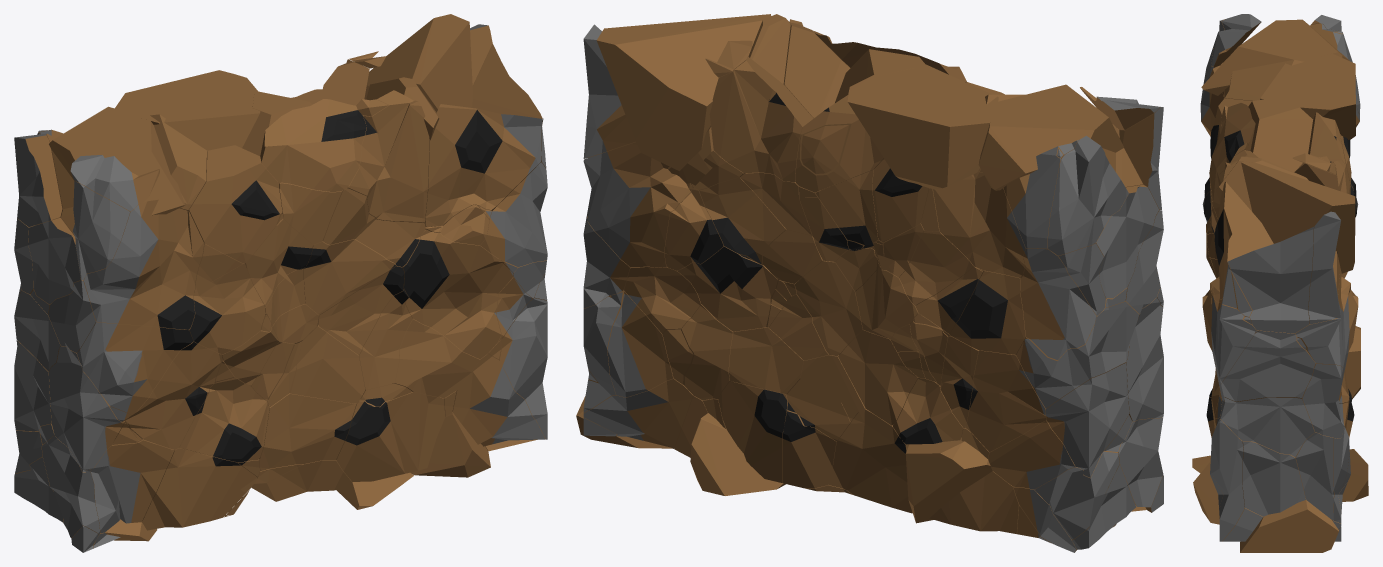
File: FracturedWall.fbx
3 views of the same model, side by side, from view 1: azimuth 30°, elevation 25°; view 2: azimuth 150°, elevation 25°; view 3: azimuth 270°, elevation 25° (orthographic). The views are drawn at different scales.
Parts seen in each view (by area): view 1: BrownWall.002_cell.030, BrownWall.002_cell.021, BrownWall.002_cell.096, BrownWall.002_cell.165, BrownWall.002_cell.004, BrownWall.002_cell.196, BrownWall.002_cell.073, BrownWall.002_cell.086, BrownWall.002_cell.115, BrownWall.002_cell.071, BrownWall.002_cell.109, BrownWall.002_cell.040 (+49 smaller); view 2: BrownWall.002_cell.071, BrownWall.002_cell.073, BrownWall.002_cell.167, BrownWall.002_cell.095, BrownWall.002_cell.040, BrownWall.002_cell.079, BrownWall.002_cell.063, BrownWall.002_cell.042, BrownWall.002_cell.118, BrownWall.002_cell.036, BrownWall.002_cell.120, BrownWall.002_cell.084 (+58 smaller); view 3: BrownWall.002_cell.061, BrownWall.002_cell.071, BrownWall.002_cell.065, BrownWall.002_cell.073, BrownWall.002_cell.008, BrownWall.002_cell.040, BrownWall.002_cell.139, BrownWall.002_cell.012, BrownWall.002_cell.021, BrownWall.002_cell.094, BrownWall.002_cell.088, BrownWall.002_cell.116 (+26 smaller).
Part boxes in pixels (left/top/right/bottom): BrownWall.002_cell.030: left=83, top=199, right=203, bottom=329; BrownWall.002_cell.021: left=425, top=104, right=542, bottom=227; BrownWall.002_cell.096: left=402, top=229, right=513, bottom=359; BrownWall.002_cell.165: left=260, top=99, right=388, bottom=191; BrownWall.002_cell.004: left=347, top=90, right=429, bottom=223; BrownWall.002_cell.196: left=188, top=145, right=282, bottom=263; BrownWall.002_cell.073: left=115, top=70, right=260, bottom=150; BrownWall.002_cell.086: left=336, top=392, right=445, bottom=481; BrownWall.002_cell.115: left=77, top=321, right=193, bottom=415; BrownWall.002_cell.071: left=364, top=14, right=472, bottom=112; BrownWall.002_cell.109: left=142, top=448, right=257, bottom=530; BrownWall.002_cell.040: left=49, top=106, right=184, bottom=215; BrownWall.002_cell.071: left=596, top=14, right=770, bottom=170; BrownWall.002_cell.073: left=847, top=62, right=998, bottom=189; BrownWall.002_cell.167: left=583, top=142, right=692, bottom=267; BrownWall.002_cell.095: left=709, top=56, right=813, bottom=181; BrownWall.002_cell.040: left=978, top=84, right=1123, bottom=190; BrownWall.002_cell.079: left=933, top=171, right=1025, bottom=277; BrownWall.002_cell.063: left=1048, top=135, right=1128, bottom=255; BrownWall.002_cell.042: left=1020, top=248, right=1096, bottom=360; BrownWall.002_cell.118: left=829, top=409, right=912, bottom=513; BrownWall.002_cell.036: left=1016, top=301, right=1138, bottom=408; BrownWall.002_cell.120: left=965, top=350, right=1046, bottom=451; BrownWall.002_cell.084: left=1045, top=363, right=1129, bottom=477; BrownWall.002_cell.061: left=1228, top=227, right=1313, bottom=333; BrownWall.002_cell.071: left=1241, top=161, right=1355, bottom=273; BrownWall.002_cell.065: left=1216, top=330, right=1316, bottom=408; BrownWall.002_cell.073: left=1260, top=53, right=1355, bottom=139; BrownWall.002_cell.008: left=1220, top=397, right=1314, bottom=457; BrownWall.002_cell.040: left=1201, top=19, right=1349, bottom=95; BrownWall.002_cell.139: left=1215, top=423, right=1305, bottom=516; BrownWall.002_cell.012: left=1240, top=498, right=1338, bottom=552; BrownWall.002_cell.021: left=1212, top=182, right=1273, bottom=317; BrownWall.002_cell.094: left=1248, top=98, right=1313, bottom=171; BrownWall.002_cell.088: left=1308, top=211, right=1340, bottom=324; BrownWall.002_cell.116: left=1210, top=410, right=1244, bottom=541.
Bounding box in the file's own units: 292 × 107 × 229.
Materials: 2 (1 with a texture image).
